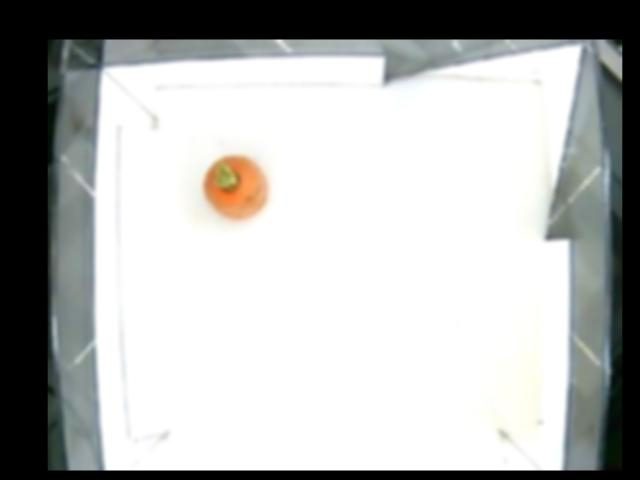Carrot: (203, 154, 268, 219)
